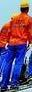hard-hat: (20, 0, 28, 8)
ppe-suit: (0, 0, 30, 90)
